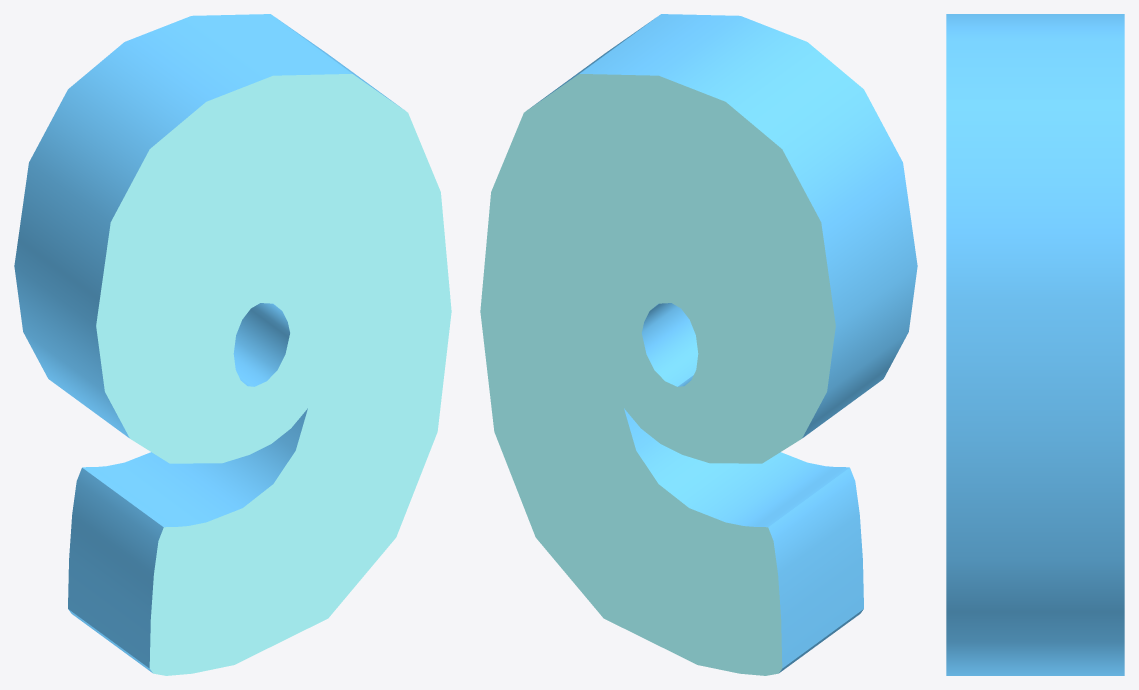
3 renders of one model, left to right at view 1: azimuth 30°, elevation 25°; view 2: azimuth 150°, elevation 25°; view 3: azimuth 270°, elevation 25°, orthographic. The views are drawn at different scales.
Parts seen in each view (by area): view 1: 9; view 2: 9; view 3: 9.
Boxes of the visible parts, x1,y1,x2,y2 form: 9: (14,14,451,675); 9: (480,14,917,675); 9: (946,14,1124,675).
Size of what is drawn, in the model's own units: 0.4017 by 0.6261 by 0.16.
